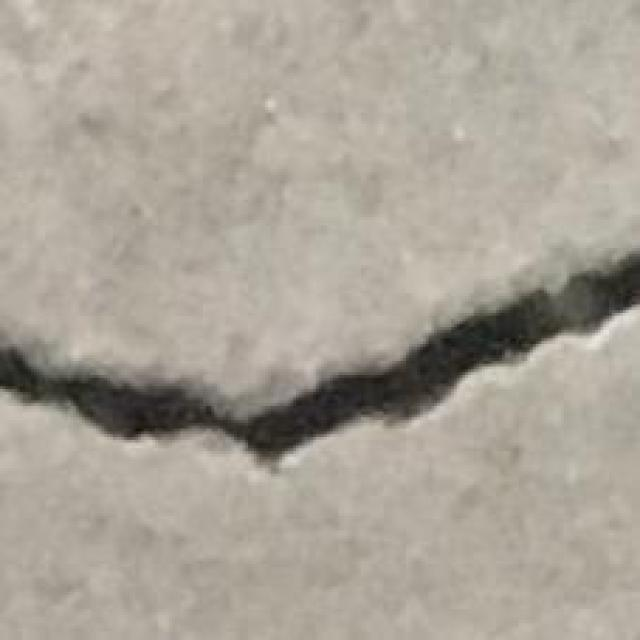horizontal crack: (0, 251, 639, 468)
